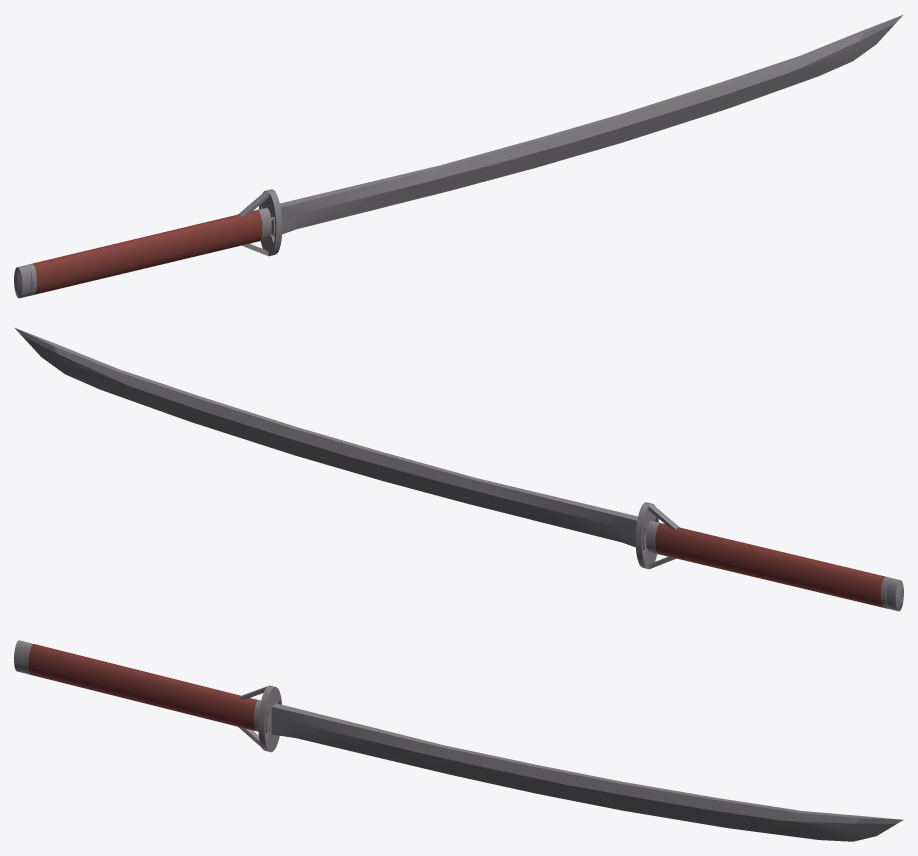
Rendered from KATANA.fbx.
3 views of the same model, one above another, from view 1: azimuth 30°, elevation 25°; view 2: azimuth 150°, elevation 25°; view 3: azimuth 330°, elevation 25° (orthographic).
Parts seen in each view (by area): view 1: Plane, Cylinder, Cylinder.001; view 2: Plane, Cylinder, Cylinder.001; view 3: Plane, Cylinder, Cylinder.001.
Part boxes in pixels (box(x1,y1,x2,y2)): Plane: box(280, 14, 903, 234); Cylinder: box(32, 210, 262, 294); Cylinder.001: box(14, 189, 282, 298); Plane: box(14, 327, 637, 547); Cylinder: box(655, 523, 885, 607); Cylinder.001: box(635, 502, 903, 611); Plane: box(271, 703, 903, 841); Cylinder: box(28, 644, 258, 730); Cylinder.001: box(14, 640, 281, 752).
Bounding box in the file's own units: 1426 × 132 × 50.17.
